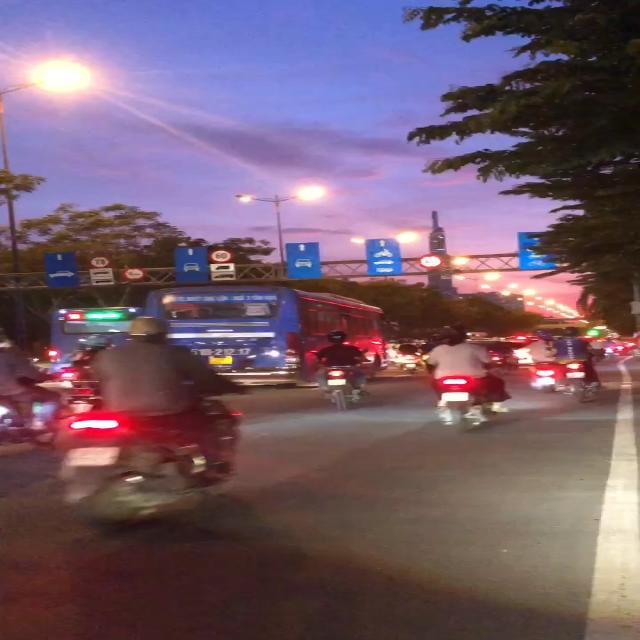Bien bao toc do toi da cho phep: (207, 248, 240, 264), (87, 256, 114, 269)
